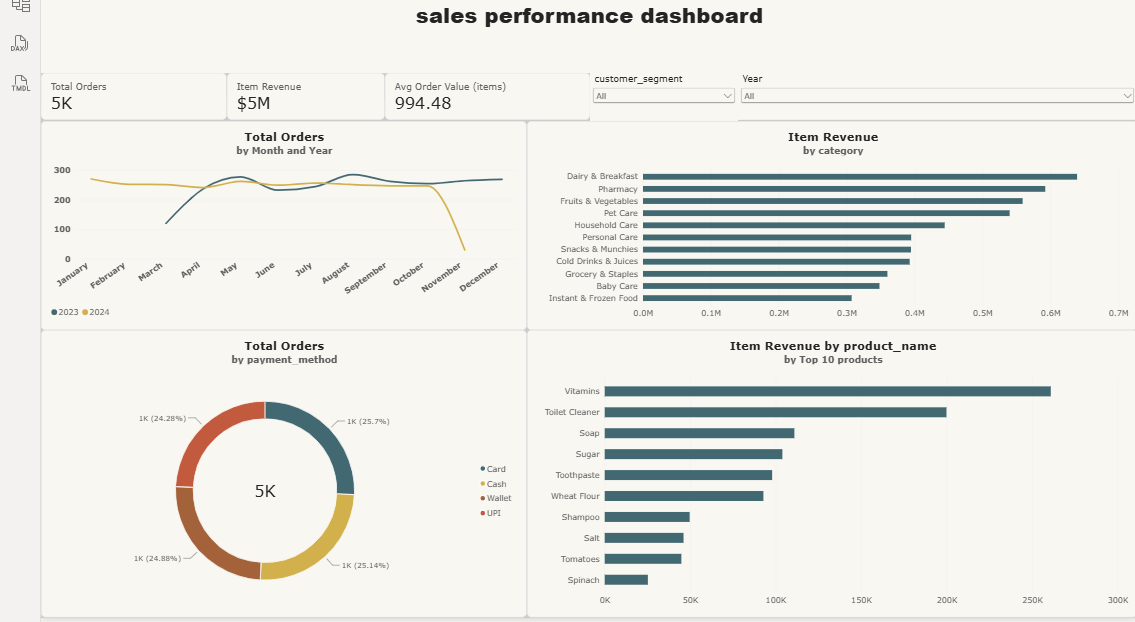

The page's visual inventory and layout, read from the dashboard file:
{"tool":"powerbi","page":{"name":"sales overview","canvas":[1920,1080],"ordinal":0},"visuals":[{"type":"cardVisual","fields":{"Data":["Date.Total Orders"]},"box":[0,128.5,325.6,82.7],"z":0},{"type":"cardVisual","fields":{"Data":["Date.Item Revenue"]},"box":[325.6,128.5,276.3,82.7],"z":1000},{"type":"cardVisual","fields":{"Data":["blinkit_orders.Avg Order Value (items)"]},"box":[601.9,128.5,359,82.7],"z":2000},{"type":"lineChart","fields":{"Series":["blinkit_orders.promised_delivery_time.Variation.Date Hierarchy.Year"],"Category":["blinkit_orders.promised_delivery_time.Variation.Date Hierarchy.Month"],"Y":["Date.Total Orders"]},"box":[0,211.2,850,366],"z":3000},{"type":"donutChart","fields":{"Category":["blinkit_orders.payment_method"],"Y":["Date.Total Orders"]},"box":[0,577.2,850,503.3],"z":4000},{"type":"barChart","fields":{"Category":["blinkit_products.category"],"Y":["Date.Item Revenue"]},"box":[850,211.2,1070,366],"z":5000},{"type":"barChart","fields":{"Category":["blinkit_products.product_name"],"Y":["Date.Item Revenue"]},"box":[850,577.2,1070,503.3],"z":6000},{"type":"textbox","box":[0,0,1920,127.8],"z":7000},{"type":"slicer","fields":{"Values":["blinkit_customers.customer_segment"]},"box":[960.9,127.8,259,84],"z":8000},{"type":"slicer","fields":{"Values":["Date.Year"]},"box":[1219.9,127.8,700.1,82.3],"z":9000}]}

Visuals, with their boxes on the page's 1920x1080 design canvas (x1, y1, x2, y2). These are canvas units, not pixel positions in the 1135x622 screenshot, which may show the page scaled, cropped or inside an application window:
cardVisual - Date.Total Orders: (left=0, top=128, right=326, bottom=211)
cardVisual - Date.Item Revenue: (left=326, top=128, right=602, bottom=211)
cardVisual - blinkit_orders.Avg Order Value (items): (left=602, top=128, right=961, bottom=211)
lineChart - blinkit_orders.promised_delivery_time.Variation.Date Hierarchy.Year x blinkit_orders.promised_delivery_time.Variation.Date Hierarchy.Month: (left=0, top=211, right=850, bottom=577)
donutChart - blinkit_orders.payment_method x Date.Total Orders: (left=0, top=577, right=850, bottom=1080)
barChart - blinkit_products.category x Date.Item Revenue: (left=850, top=211, right=1920, bottom=577)
barChart - blinkit_products.product_name x Date.Item Revenue: (left=850, top=577, right=1920, bottom=1080)
textbox: (left=0, top=0, right=1920, bottom=128)
slicer - blinkit_customers.customer_segment: (left=961, top=128, right=1220, bottom=212)
slicer - Date.Year: (left=1220, top=128, right=1920, bottom=210)
